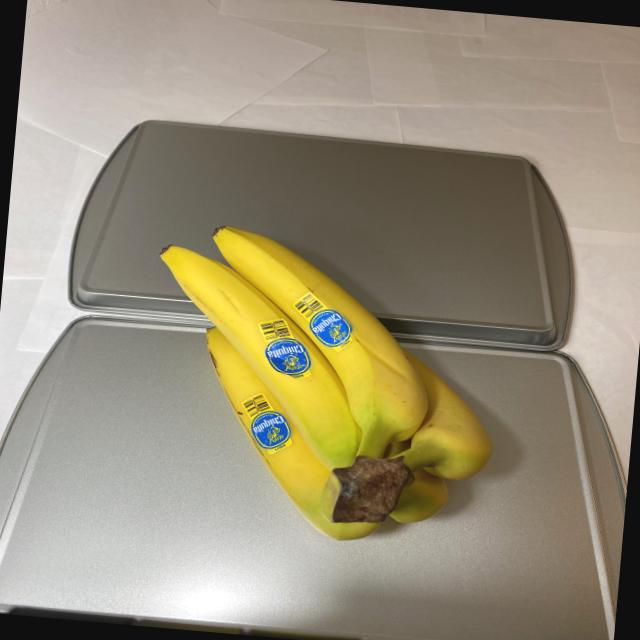banana: (138, 216, 512, 554)
